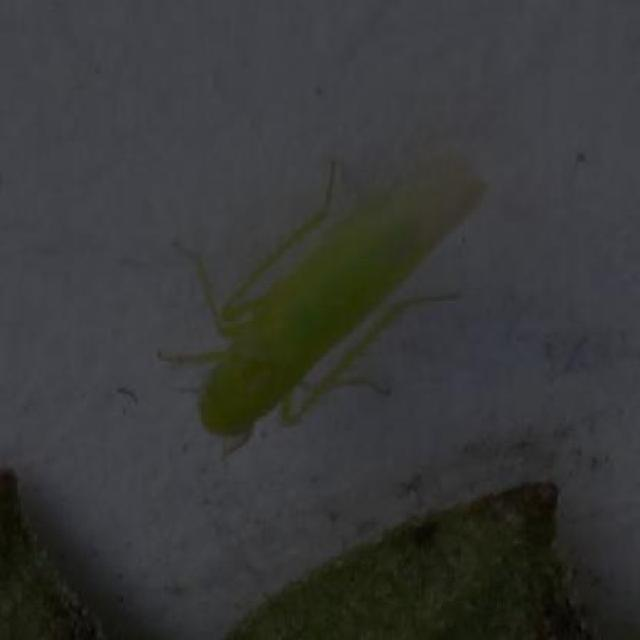green-leafhopper: (193, 156, 476, 442)
